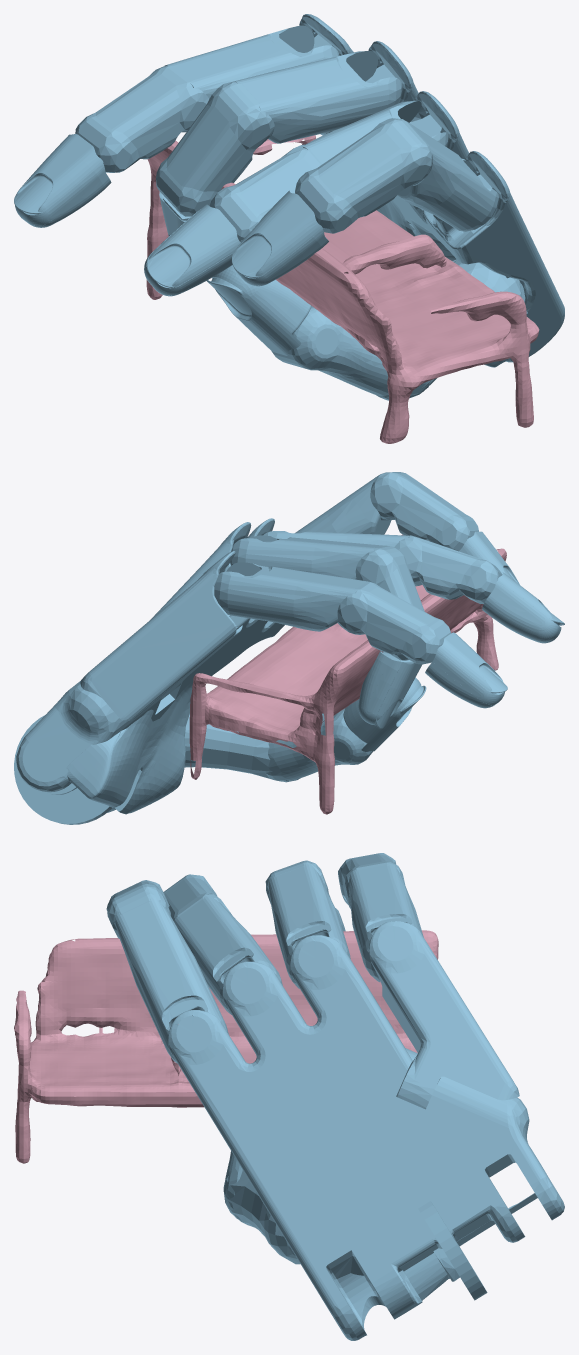
3 views of the same model, one above another, from view 1: azimuth 30°, elevation 25°; view 2: azimuth 150°, elevation 25°; view 3: azimuth 270°, elevation 25° (orthographic). The views are drawn at different scales.
Visible parts, largest first — view 1: hand_isaac_q, world; view 2: hand_isaac_q, world; view 3: hand_isaac_q, world.
Part boxes in pixels (x1,y1,x2,y2): hand_isaac_q: (14, 14, 564, 400); world: (146, 135, 539, 443); hand_isaac_q: (14, 472, 564, 824); world: (189, 534, 506, 814); hand_isaac_q: (106, 853, 564, 1340); world: (14, 930, 438, 1163).
Size of the model in its own units: 0.1731 by 0.1172 by 0.1693.
